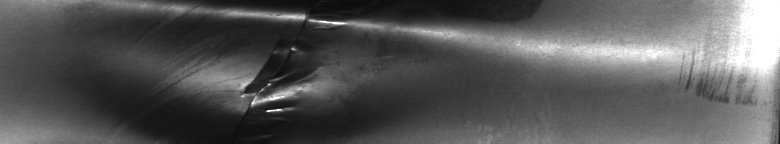ke: (102, 4, 560, 120)
